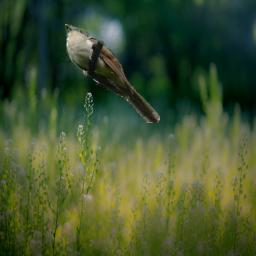Cuckoo: (65, 24, 160, 123)
